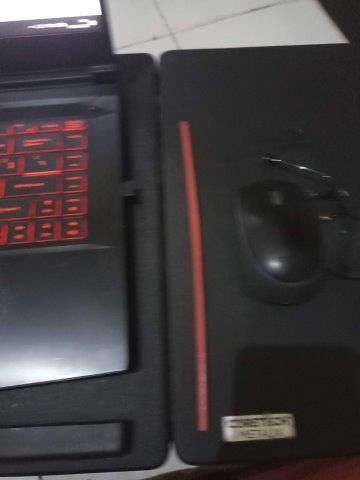sedotan: (179, 122, 207, 430)
